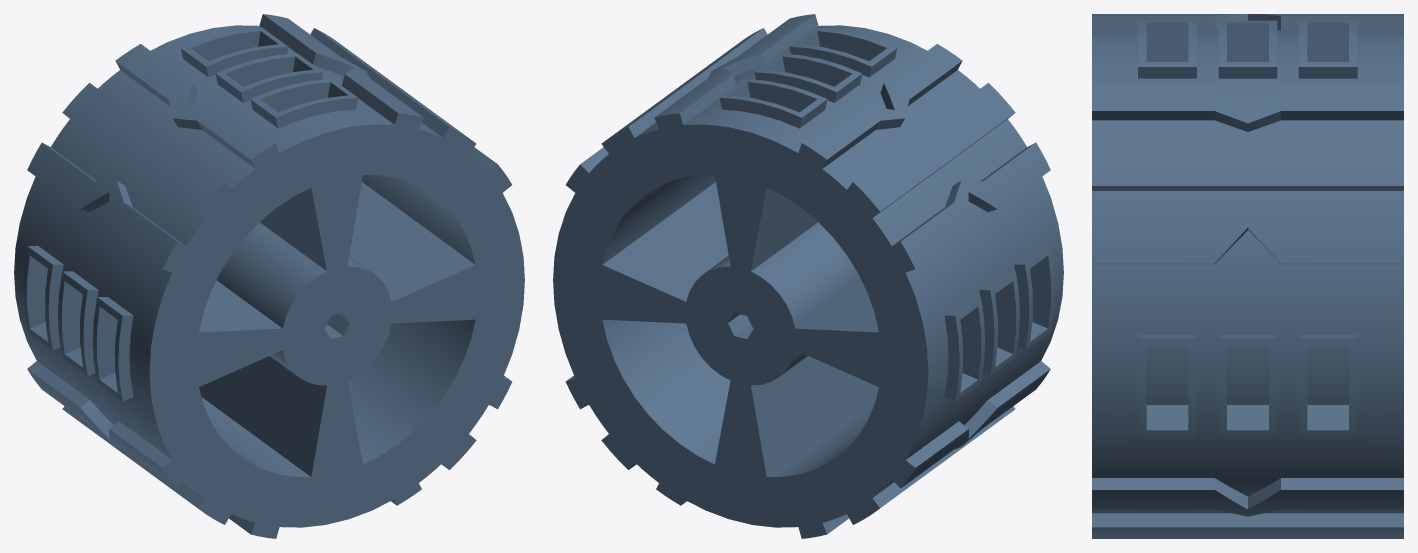
The model's file is mars-wheel.glb.
3 renders of one model, left to right at view 1: azimuth 30°, elevation 25°; view 2: azimuth 150°, elevation 25°; view 3: azimuth 270°, elevation 25°, orthographic. The views are drawn at different scales.
Visible parts, largest first — view 1: Wheel3:1; view 2: Wheel3:1; view 3: Wheel3:1.
Part boxes in pixels (x1,y1,x2,y2): Wheel3:1: (14,14,524,538); Wheel3:1: (553,14,1063,538); Wheel3:1: (1092,14,1403,538).
Size of the model in its own units: 0.1076 by 0.1076 by 0.0635.
